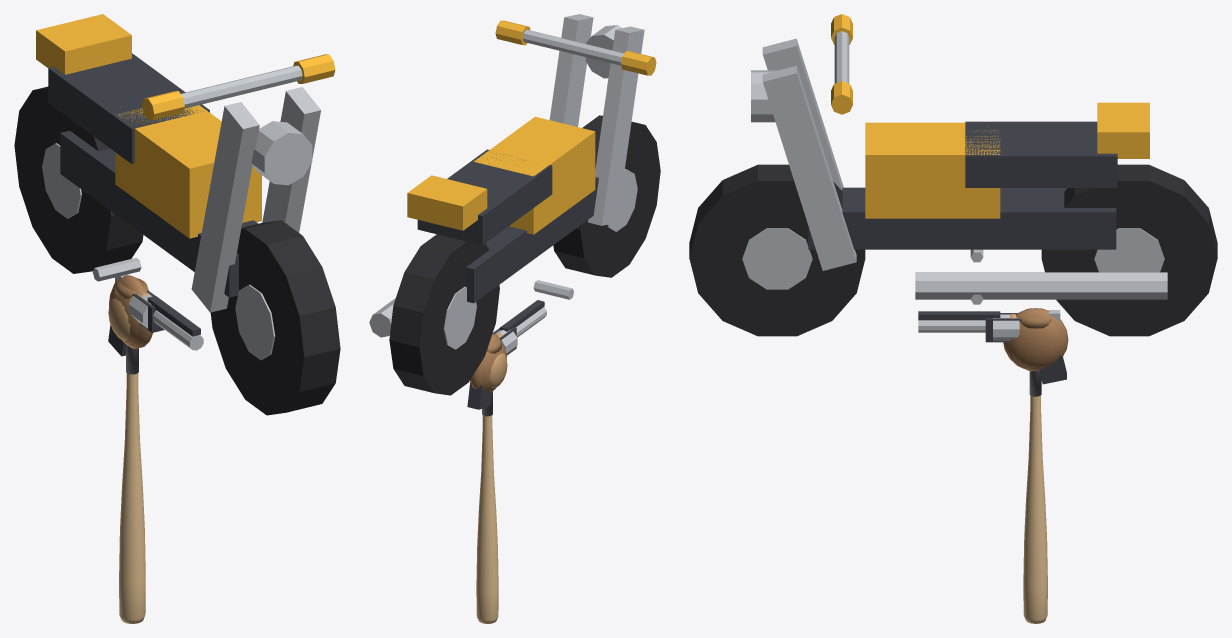
File: props.glb
The picture shows the model from 3 angles, left to right: view 1: azimuth 30°, elevation 25°; view 2: azimuth 150°, elevation 25°; view 3: azimuth 270°, elevation 25°; orthographic projection. The views are drawn at different scales.
Parts seen in each view (by area): view 1: Bike, Bat, Gun, Mitt; view 2: Bike, Bat, Gun, Mitt; view 3: Bike, Bat, Gun, Mitt.
Part boxes in pixels (x1=…): Bike: x1=14, y1=14, x2=340, y2=415; Bat: x1=119, y1=344, x2=145, y2=623; Gun: x1=108, y1=274, x2=203, y2=356; Mitt: x1=108, y1=275, x2=152, y2=348; Bike: x1=369, y1=14, x2=660, y2=395; Bat: x1=476, y1=391, x2=498, y2=623; Gun: x1=467, y1=300, x2=546, y2=409; Mitt: x1=470, y1=334, x2=507, y2=391; Bike: x1=689, y1=14, x2=1217, y2=336; Bat: x1=1023, y1=371, x2=1047, y2=623; Gun: x1=918, y1=310, x2=1066, y2=384; Mitt: x1=1003, y1=308, x2=1068, y2=368.
Size of the model in its own units: 0.65 by 2.14 by 1.8.
